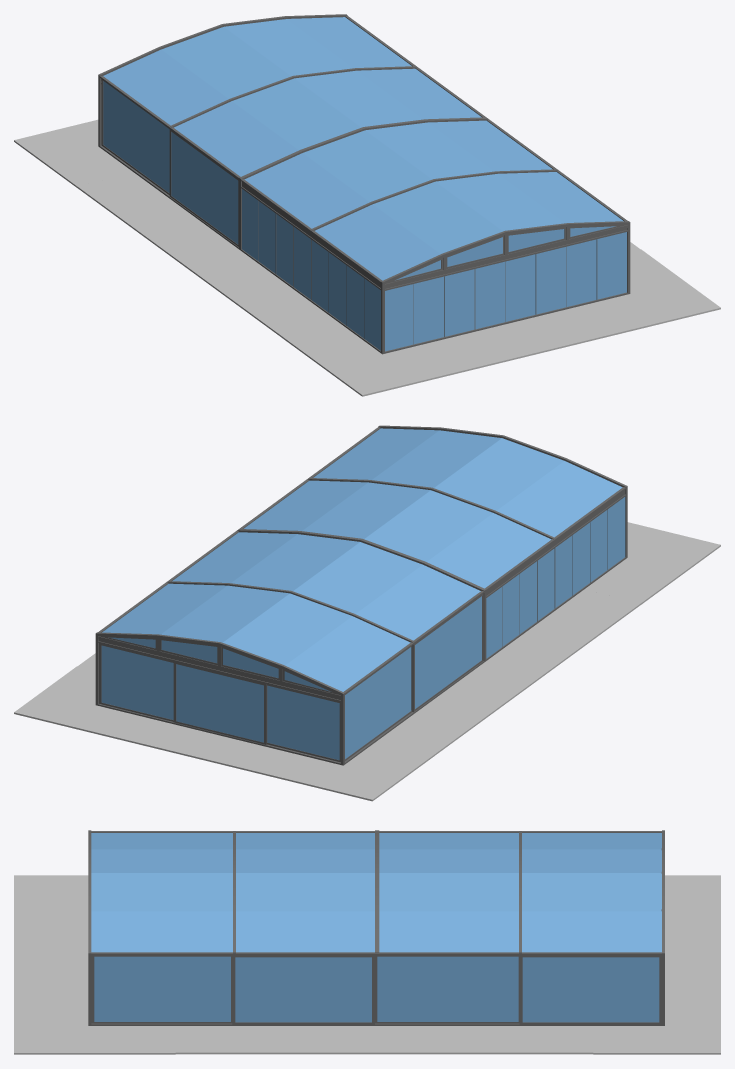
The model's file is Galaxisis.glb.
3 views of the same model, one above another, from view 1: azimuth 30°, elevation 25°; view 2: azimuth 150°, elevation 25°; view 3: azimuth 270°, elevation 25° (orthographic).
Parts seen in each view (by area): view 1: Line009, Box283, Box008, Box284, Box009, Rectangle003, Rectangle004, Box282, Line001, Line008, Box011, Line014 (+12 smaller); view 2: Line009, Box282, entity_1, Box284, Box009, Box283, Rectangle003, Rectangle004, Line014, Box021, Line008, Box011 (+11 smaller); view 3: Line009, Box283, Box282, Box285, Rectangle011, Rectangle008, Rectangle006, Rectangle013, Box014, Box022, Box011, Rectangle012 (+4 smaller).
Boxes of the visible parts, bbox=[...] form: Line009: bbox=[103, 17, 623, 280]; Box283: bbox=[282, 249, 720, 396]; Box008: bbox=[385, 232, 626, 351]; Box284: bbox=[77, 172, 338, 337]; Box009: bbox=[242, 189, 380, 350]; Rectangle003: bbox=[169, 129, 238, 246]; Rectangle004: bbox=[103, 81, 169, 192]; Box282: bbox=[14, 119, 133, 187]; Line001: bbox=[381, 221, 630, 354]; Line008: bbox=[239, 117, 487, 249]; Box011: bbox=[100, 75, 382, 282]; Line014: bbox=[98, 14, 347, 145]; Line009: bbox=[102, 428, 622, 691]; Box282: bbox=[14, 666, 435, 801]; entity_1: bbox=[101, 645, 339, 760]; Box284: bbox=[379, 589, 641, 754]; Box009: bbox=[486, 497, 625, 658]; Box283: bbox=[585, 522, 720, 604]; Rectangle003: bbox=[412, 593, 483, 712]; Rectangle004: bbox=[345, 647, 411, 758]; Line014: bbox=[95, 632, 344, 765]; Box021: bbox=[98, 556, 627, 765]; Line008: bbox=[237, 529, 486, 660]; Box011: bbox=[343, 487, 625, 694]; Line009: bbox=[91, 833, 661, 952]; Box283: bbox=[14, 875, 175, 1054]; Box282: bbox=[593, 875, 720, 1054]; Box285: bbox=[175, 1026, 593, 1054]; Rectangle011: bbox=[232, 955, 374, 1024]; Rectangle008: bbox=[519, 955, 661, 1024]; Rectangle006: bbox=[377, 956, 518, 1021]; Rectangle013: bbox=[94, 956, 230, 1021]; Box014: bbox=[91, 952, 661, 955]; Box022: bbox=[91, 1023, 661, 1025]; Box011: bbox=[91, 831, 661, 832]; Rectangle012: bbox=[91, 955, 232, 1023].
Size of the model in its own units: 846 by 256 by 1423.
